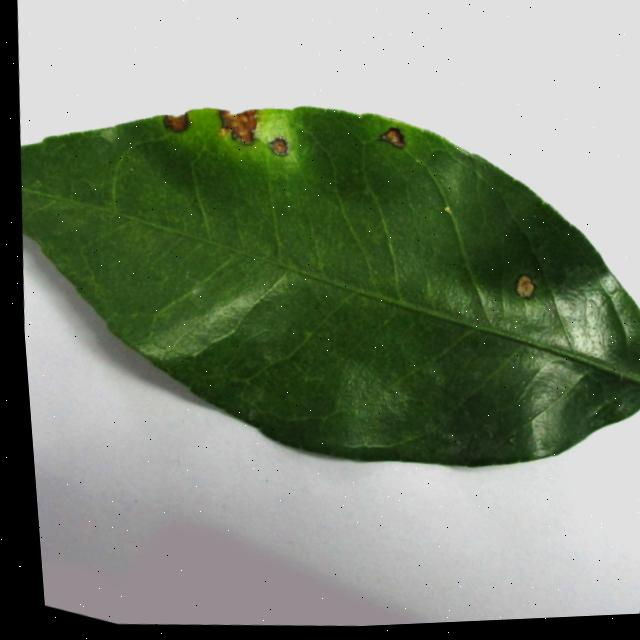antracnose: (19, 107, 640, 465), (219, 110, 256, 143), (379, 126, 404, 148), (163, 113, 189, 132), (515, 274, 535, 298), (270, 137, 287, 154)
